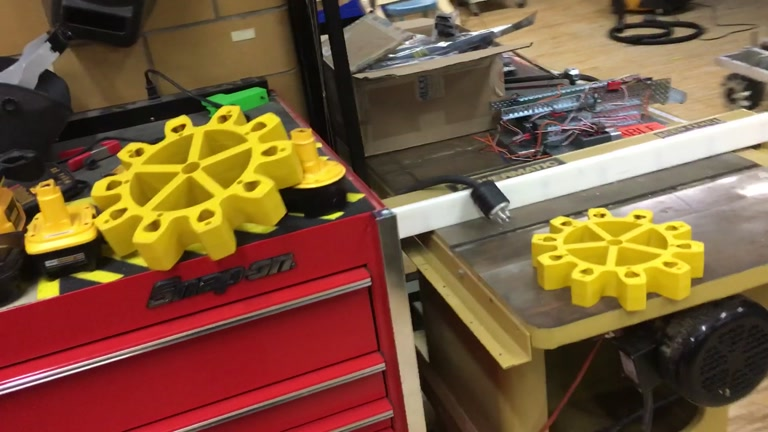gear: (90, 105, 302, 272), (529, 206, 706, 313)
